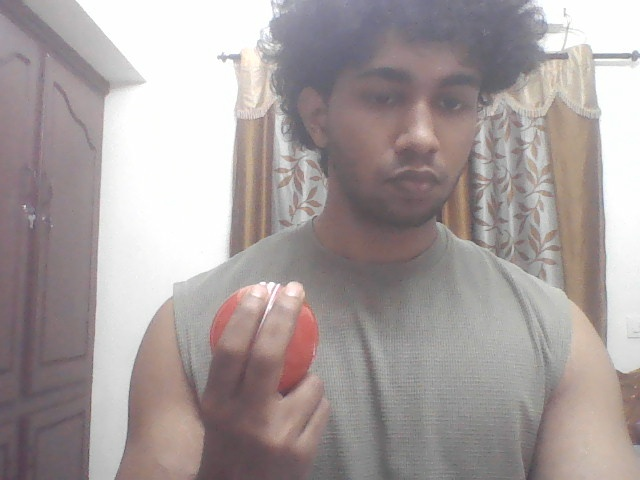cricket_ball: (207, 281, 319, 395)
